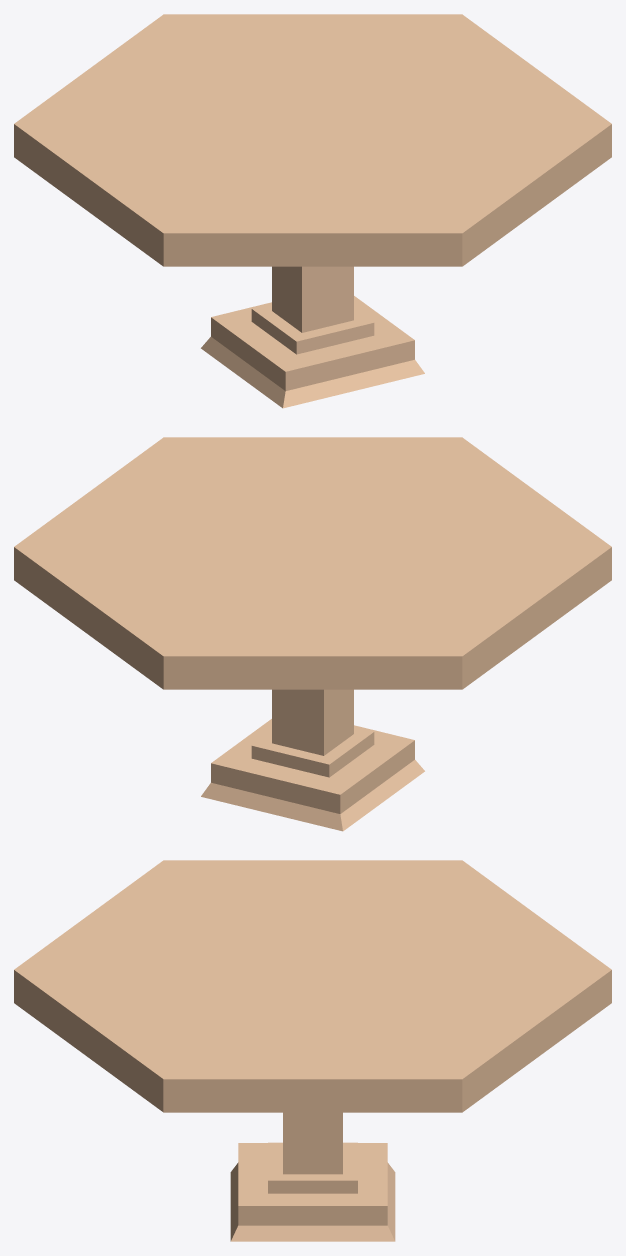
The model's file is tableRound-col.glb.
3 views of the same model, one above another, from view 1: azimuth 30°, elevation 25°; view 2: azimuth 150°, elevation 25°; view 3: azimuth 270°, elevation 25° (orthographic).
Parts seen in each view (by area): view 1: tableRound-col; view 2: tableRound-col; view 3: tableRound-col.
Part boxes in pixels (box(x1,y1,x2,y2)): tableRound-col: box(14, 14, 611, 408); tableRound-col: box(14, 437, 611, 831); tableRound-col: box(14, 860, 611, 1241).
Size of the model in its own units: 0.6928 by 0.35 by 0.8.
